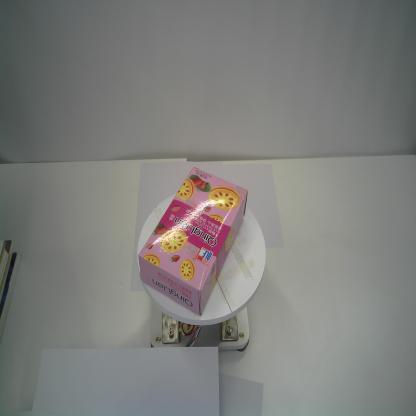Dessert: (136, 164, 250, 316)
